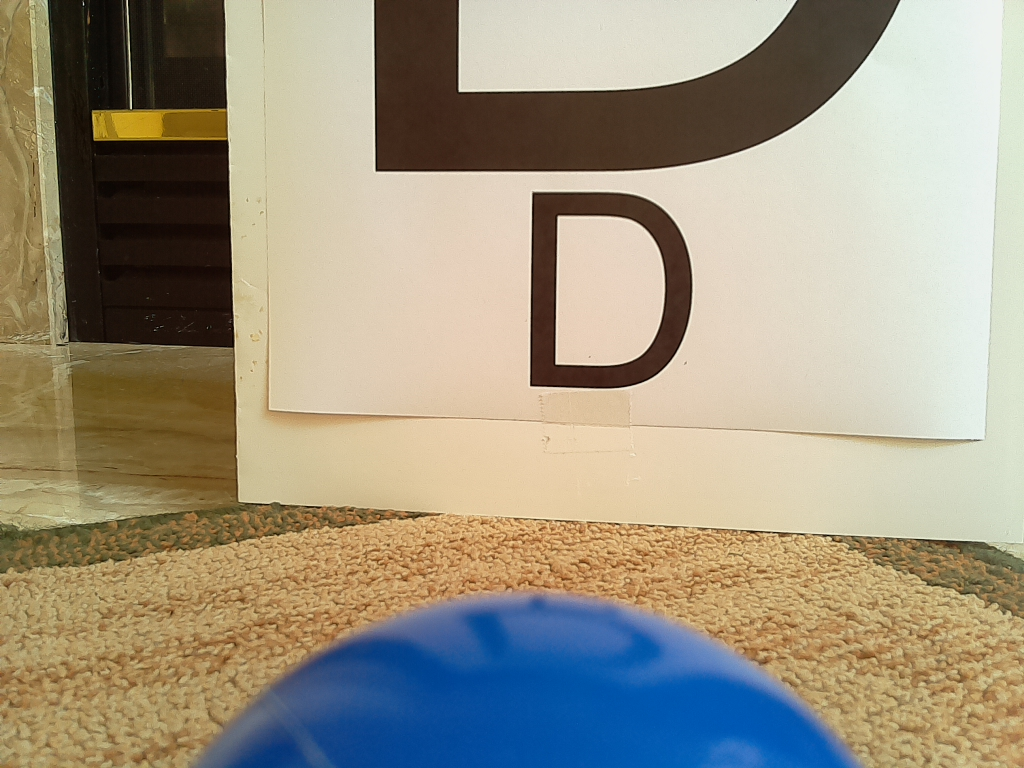letter: (532, 193, 693, 387)
